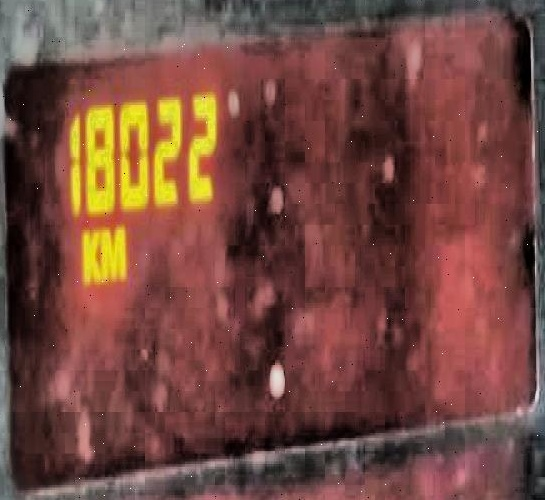0: (116, 89, 150, 214)
1: (61, 100, 82, 225)
2: (187, 84, 222, 206), (152, 87, 185, 212)
8: (82, 99, 115, 214)
X: (101, 222, 127, 284), (80, 222, 100, 287)
